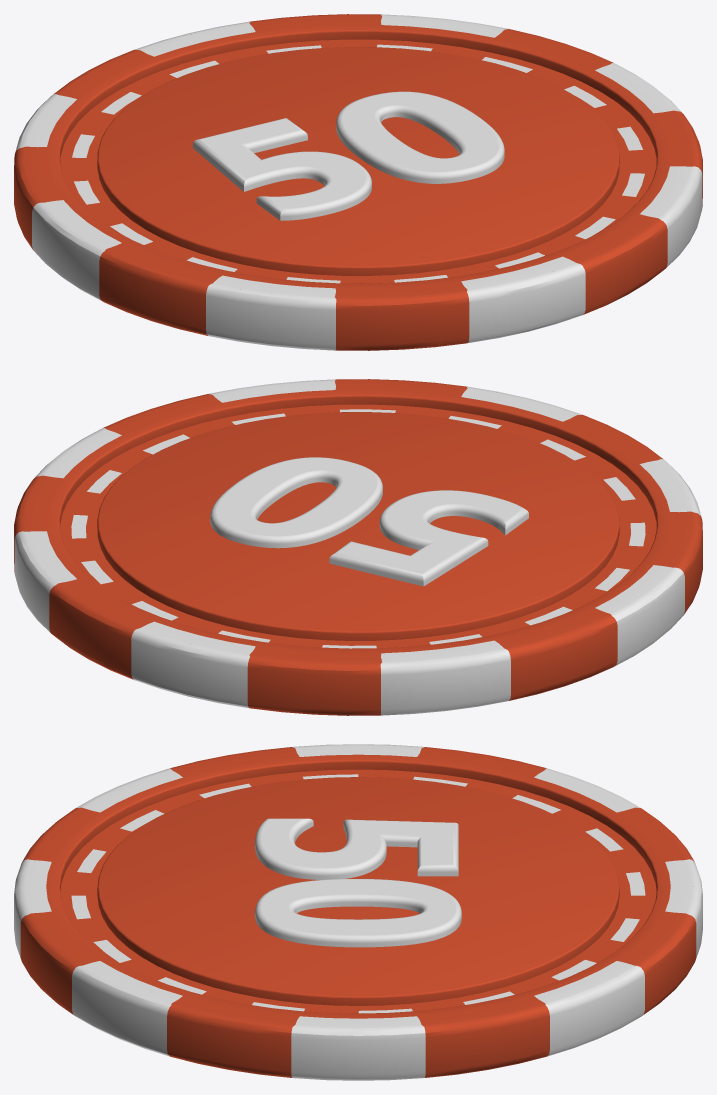
The picture shows the model from 3 angles, top to bottom: view 1: azimuth 30°, elevation 25°; view 2: azimuth 150°, elevation 25°; view 3: azimuth 270°, elevation 25°; orthographic projection.
Parts seen in each view (by area): view 1: Chip; view 2: Chip; view 3: Chip.
Boxes of the visible parts, x1=… form: Chip: x1=14, y1=14, x2=702, y2=350; Chip: x1=14, y1=379, x2=702, y2=715; Chip: x1=14, y1=744, x2=702, y2=1080.
Bounding box in the file's own units: 8.02 × 0.9115 × 8.02.
